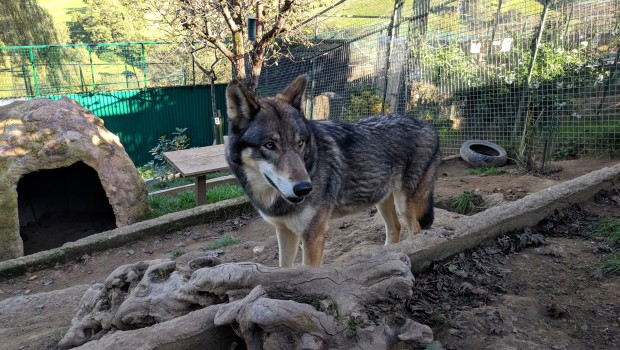Lobo: (198, 69, 437, 254)
